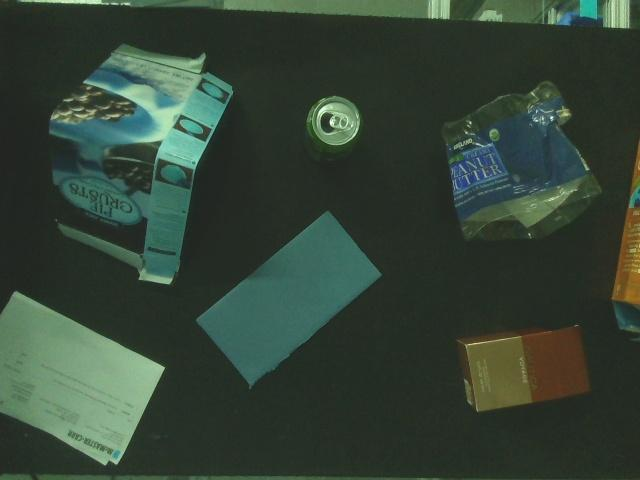cardboard: (47, 43, 235, 286), (195, 208, 383, 392), (459, 320, 593, 414), (614, 138, 640, 336)
metal: (306, 94, 364, 170)
paper: (0, 289, 168, 469)
plastic: (440, 78, 605, 248)
